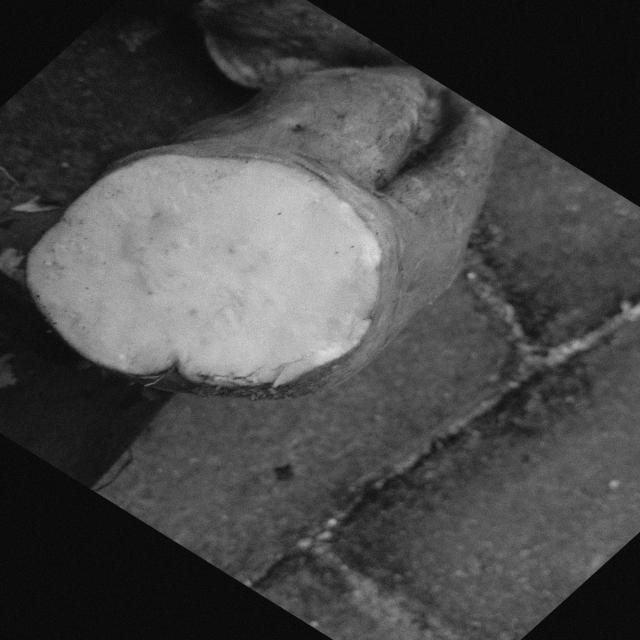Healthy Sweet Potato: (27, 155, 380, 385)
